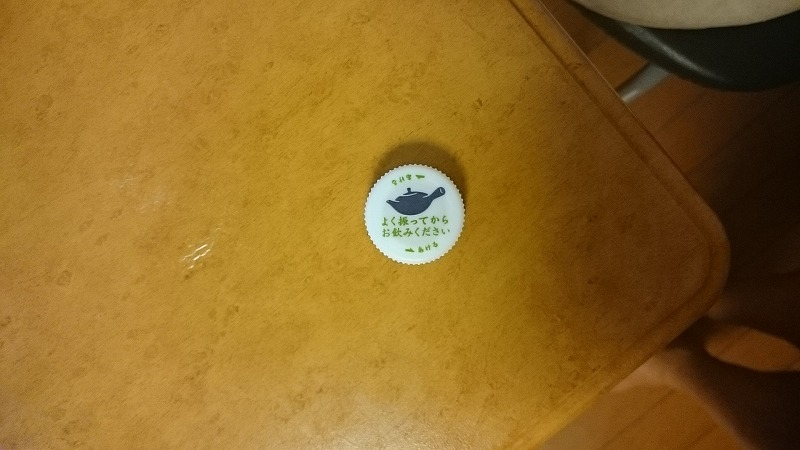A: (362, 160, 468, 271)
